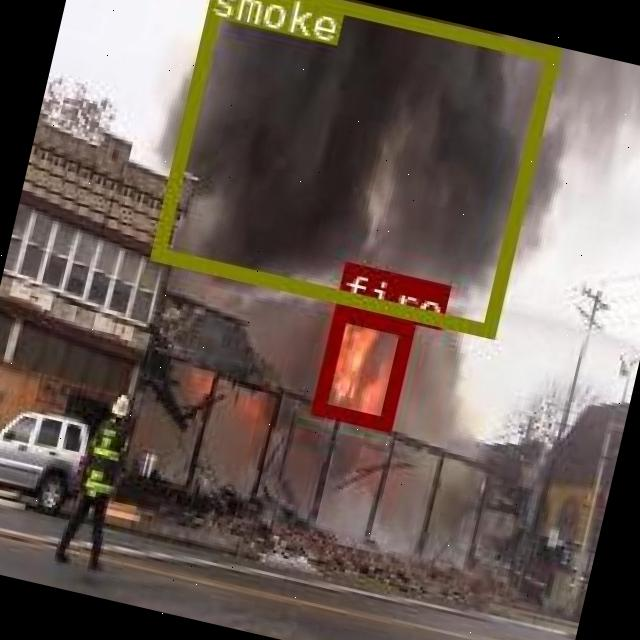fire: (309, 304, 412, 426)
smoke: (149, 0, 556, 334)
